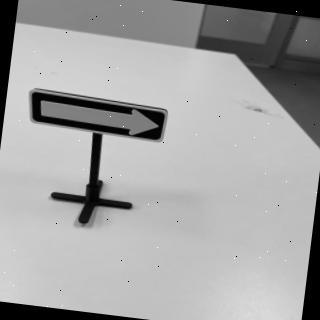sign_oneway_right: (25, 88, 171, 145)
